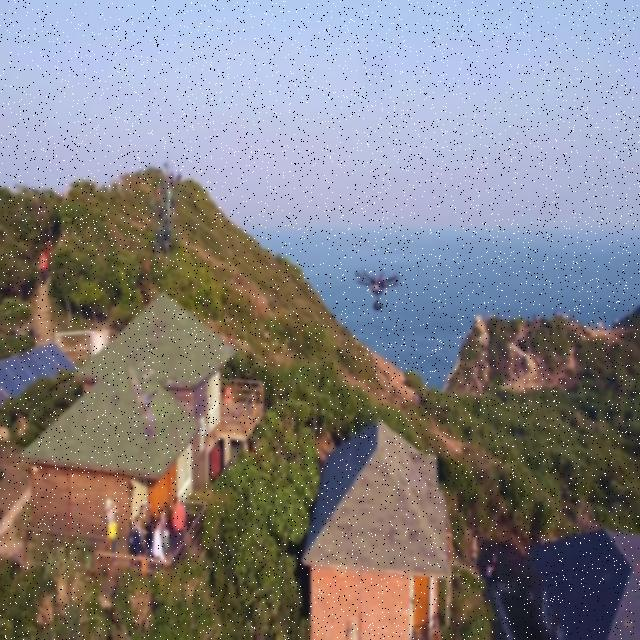UAV: (355, 270, 403, 310)
